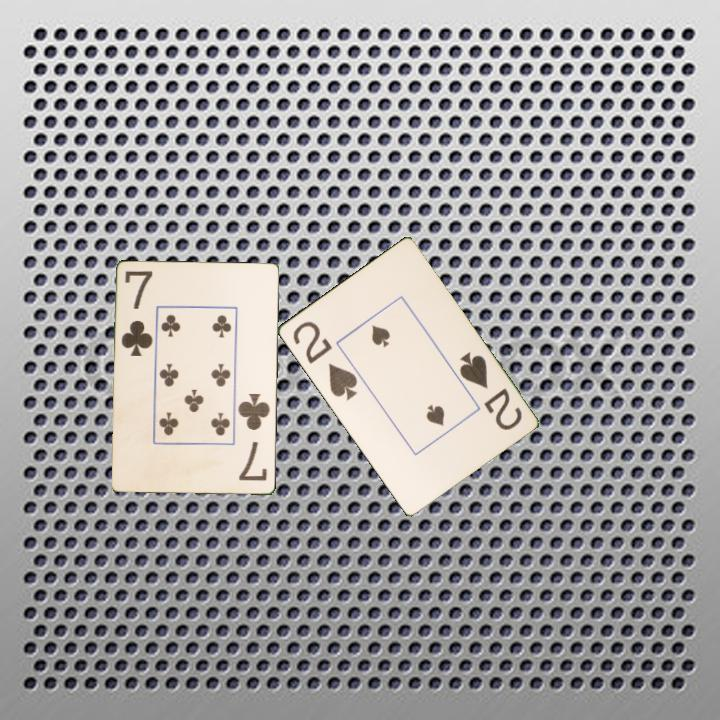2s: (289, 317, 360, 403), (455, 348, 525, 433)
7c: (235, 390, 273, 484), (118, 267, 156, 359)
